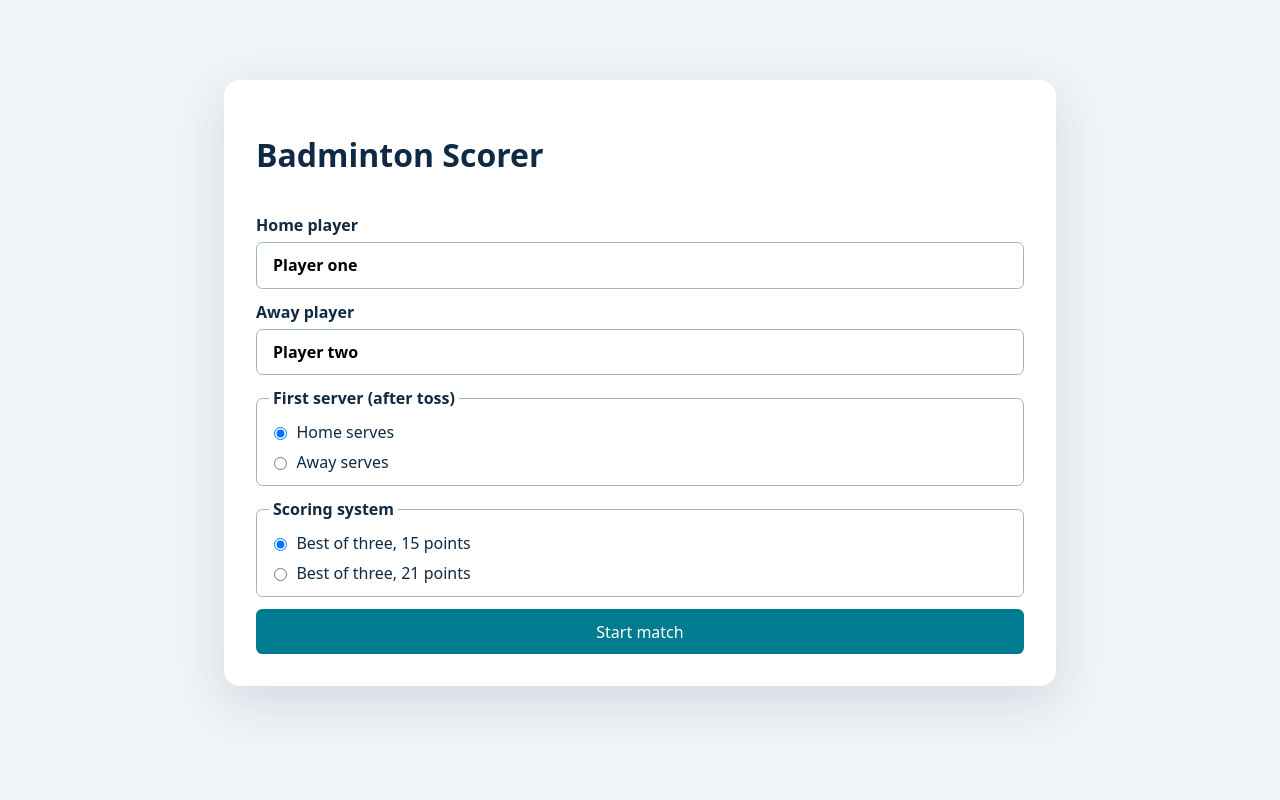
match scoring workflow › updates the visible score after a player receives a point
The width and height of the screenshot is (1280, 800).
Click the button "Start match" at (640, 632), box [256,609,1024,654]
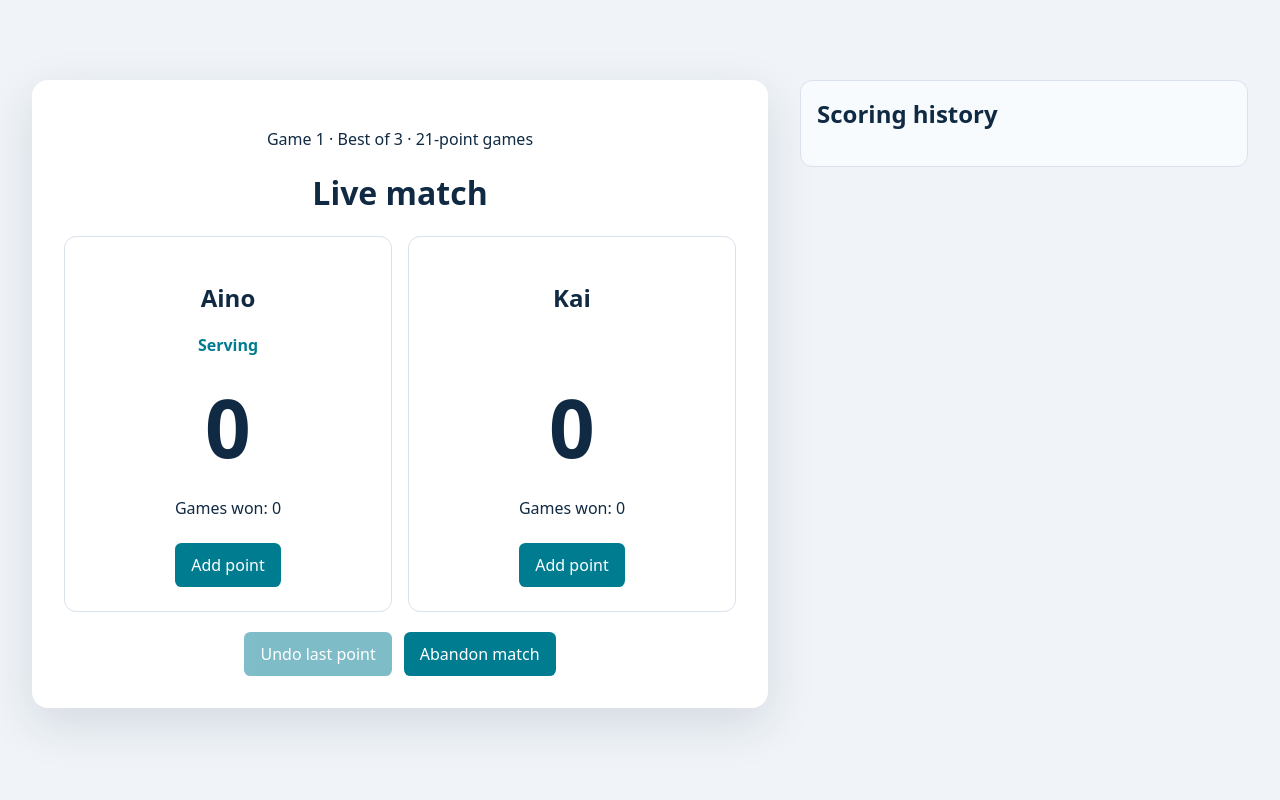
Result: the heading "Live match" is shown at [312,171,488,214]
Click the button with aria-label "Add point for Aino" at (228, 565), box [175,543,281,587]
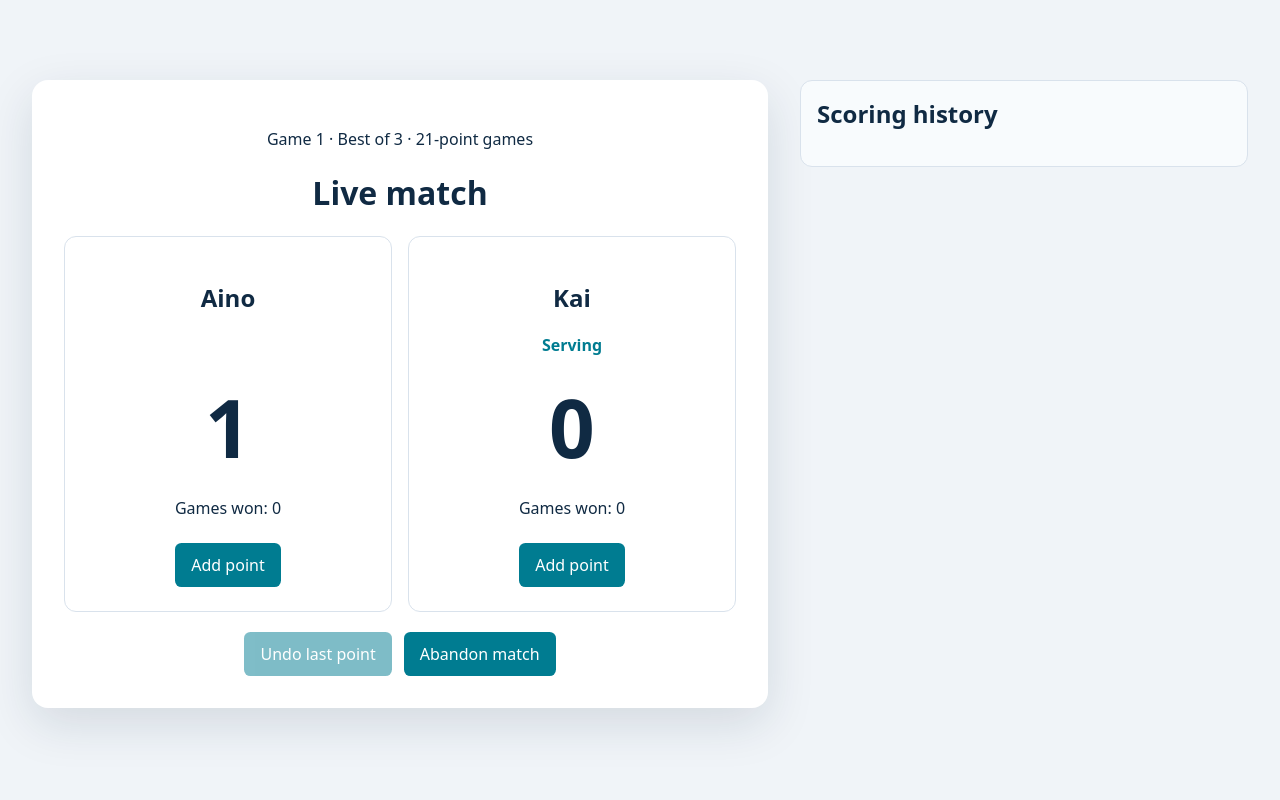
Result: the text "1" is shown at [205,372,251,481]
Result: the text named "Kai is serving" is shown at [542,334,602,356]
